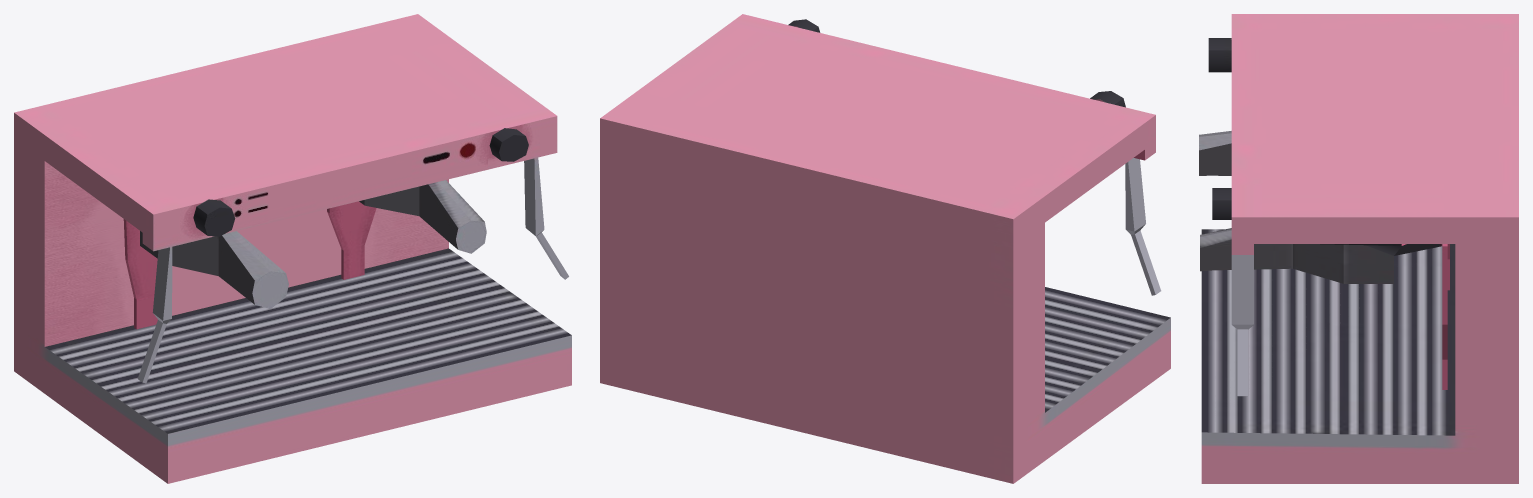
Rendered from Cafetera_model.fbx.
3 views of the same model, side by side, from view 1: azimuth 30°, elevation 25°; view 2: azimuth 150°, elevation 25°; view 3: azimuth 270°, elevation 25° (orthographic). The views are drawn at different scales.
Visible parts, largest first — view 1: Cafetera; view 2: Cafetera; view 3: Cafetera.
Part boxes in pixels (x1=…): Cafetera: x1=14, y1=14, x2=571, y2=483; Cafetera: x1=600, y1=14, x2=1170, y2=483; Cafetera: x1=1199, y1=14, x2=1518, y2=483.
Size of the model in its own units: 6.98 by 4.07 by 4.39.
